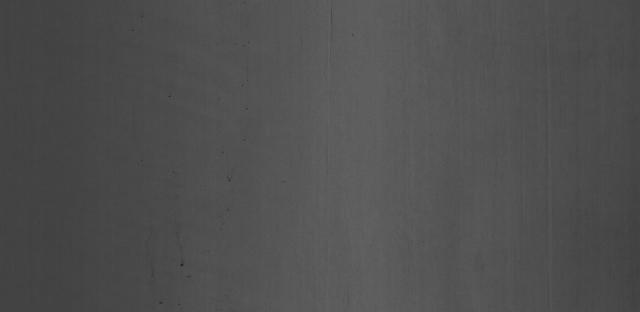inclusion: (174, 259, 190, 270)
